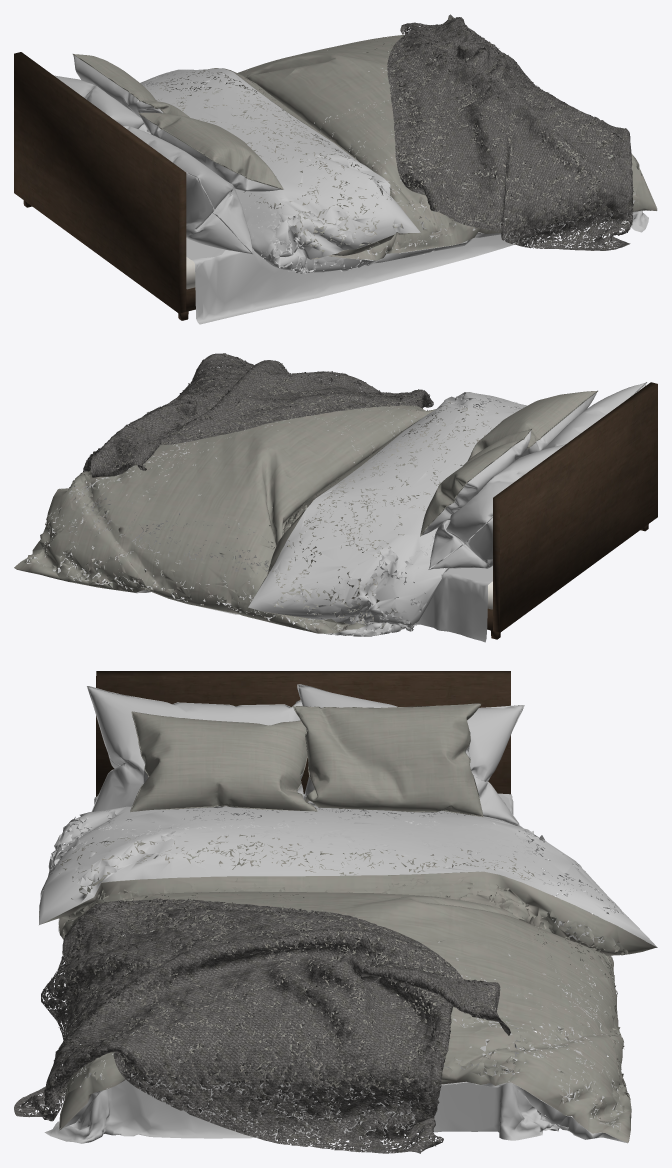
File: bed.glb
3 renders of one model, top to bottom at view 1: azimuth 30°, elevation 25°; view 2: azimuth 150°, elevation 25°; view 3: azimuth 270°, elevation 25°, orthographic. The views are drawn at different scales.
Visible parts, largest first — view 1: blanket_blanket_0, bed_wood_0, cover_cover_top_0, cover_cover_bottom_0, sheet_sheet_0, pillows_pillows_0, cushions_cushions_0, cushions_cover_bottom_0; view 2: cover_cover_top_0, cover_cover_bottom_0, bed_wood_0, blanket_blanket_0, pillows_pillows_0, cushions_cushions_0, sheet_sheet_0, cushions_cover_bottom_0; view 3: blanket_blanket_0, cover_cover_top_0, cover_cover_bottom_0, cushions_cushions_0, bed_wood_0, sheet_sheet_0, pillows_pillows_0.
Boxes of the visible parts, x1,y1,x2,y2 form: blanket_blanket_0: (387, 14, 633, 250); bed_wood_0: (14, 52, 195, 320); cover_cover_top_0: (155, 35, 657, 260); cover_cover_bottom_0: (140, 53, 657, 274); sheet_sheet_0: (186, 58, 648, 324); pillows_pillows_0: (54, 75, 253, 254); cushions_cushions_0: (72, 54, 283, 189); cushions_cover_bottom_0: (73, 55, 281, 191); cover_cover_top_0: (14, 368, 498, 633); cover_cover_bottom_0: (14, 383, 526, 636); bed_wood_0: (487, 382, 657, 639); blanket_blanket_0: (83, 353, 433, 477); pillows_pillows_0: (428, 382, 647, 569); cushions_cushions_0: (420, 390, 597, 536); sheet_sheet_0: (74, 408, 492, 642); cushions_cover_bottom_0: (421, 392, 596, 535); blanket_blanket_0: (14, 898, 510, 1153); cover_cover_top_0: (39, 834, 656, 1142); cover_cover_bottom_0: (39, 805, 657, 1143); cushions_cushions_0: (130, 703, 483, 816); bed_wood_0: (96, 671, 510, 796); sheet_sheet_0: (44, 793, 559, 1143); pillows_pillows_0: (87, 684, 524, 826).
Bounding box in the file's own units: 2.55 × 0.7795 × 2.36.
Materials: 8 (6 with a texture image).
